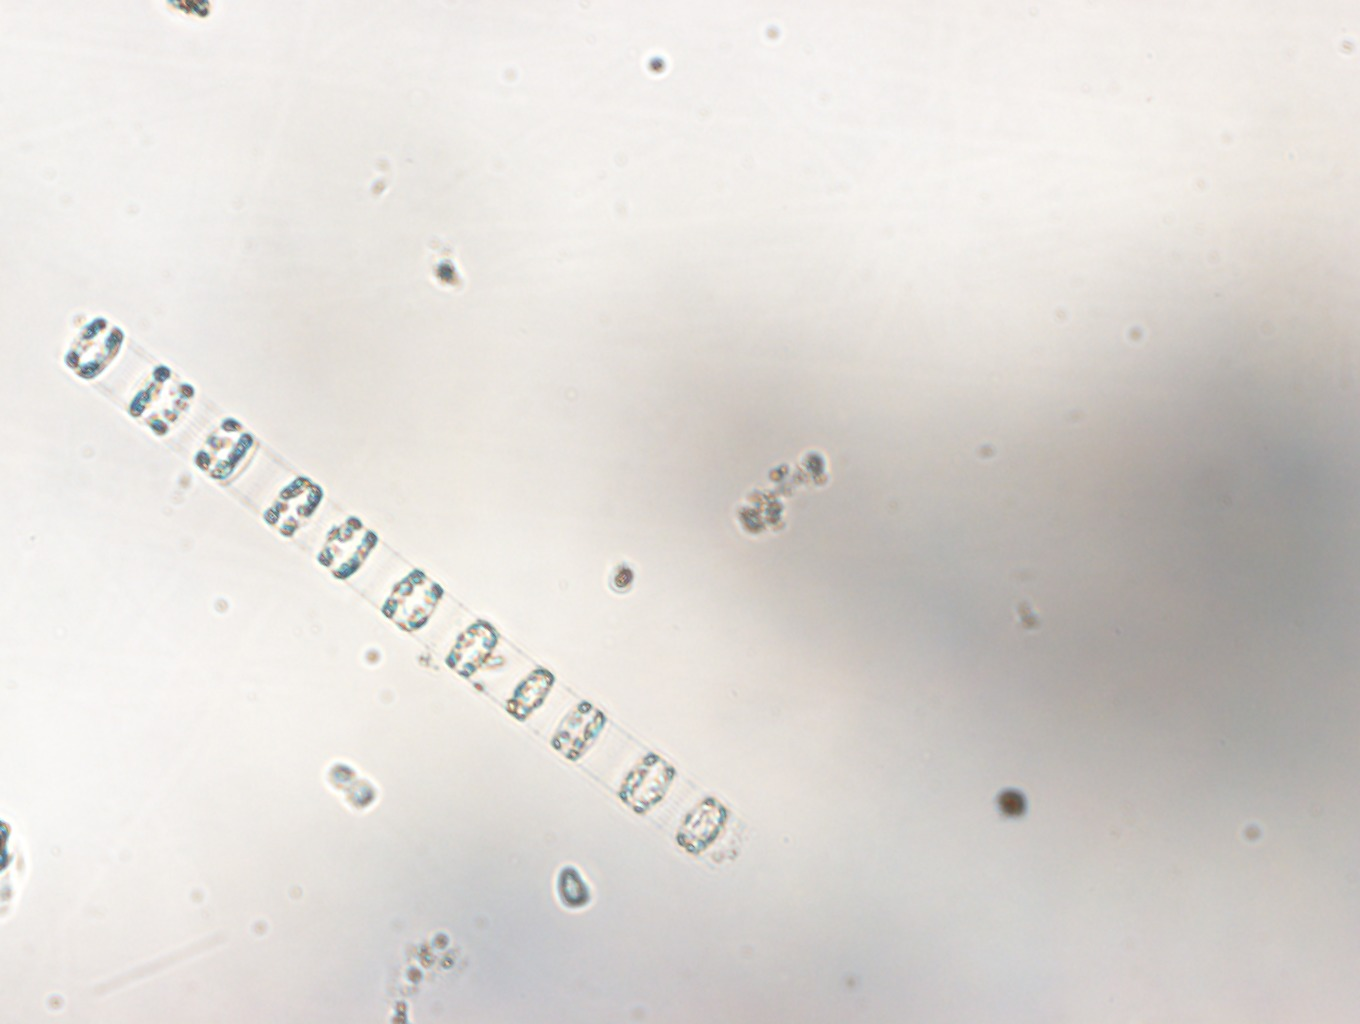skeletonema: (49, 316, 747, 872)
